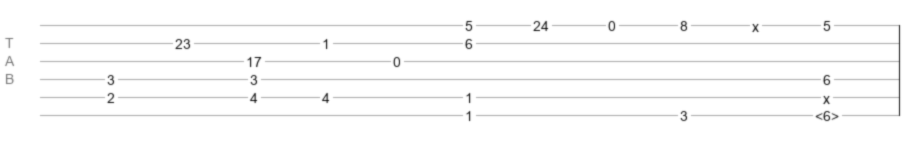0: (393, 54, 401, 64), (608, 18, 616, 28)
1: (322, 36, 330, 46), (465, 108, 473, 118), (465, 90, 473, 100)
17: (246, 54, 262, 64)
2: (107, 90, 115, 100)
23: (175, 36, 191, 46)
24: (533, 18, 549, 28)
3: (107, 72, 115, 82), (250, 72, 258, 82), (680, 108, 688, 118)
4: (250, 90, 258, 100), (322, 90, 330, 100)
5: (465, 18, 473, 28), (823, 18, 831, 28)
6: (465, 36, 473, 46), (823, 72, 831, 82)
8: (680, 18, 688, 28)
harmonic: (815, 108, 839, 118)
x: (752, 19, 759, 27), (823, 91, 830, 99)
